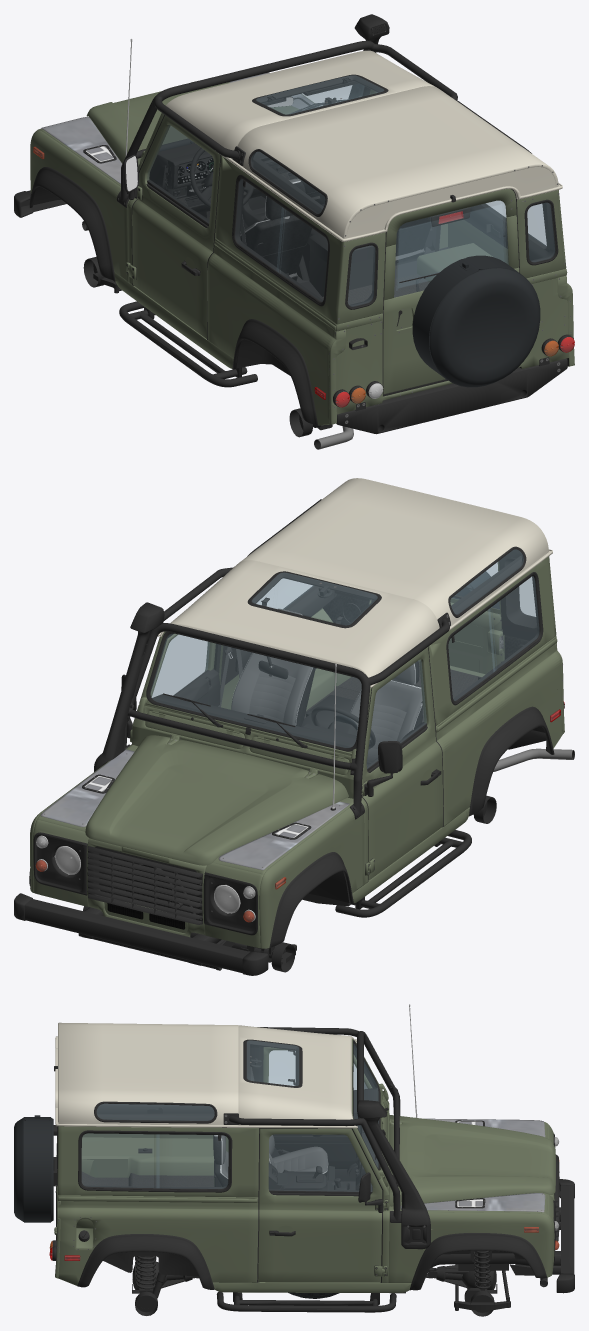
Rendered from defender-90.glb.
3 views of the same model, one above another, from view 1: azimuth 30°, elevation 25°; view 2: azimuth 150°, elevation 25°; view 3: azimuth 270°, elevation 25° (orthographic). The views are drawn at different scales.
Parts seen in each view (by area): view 1: Body, Steering; view 2: Body, Steering; view 3: Body.
Part boxes in pixels (x1,y1,x2,y2): Body: (14,14,574,449); Steering: (190,148,253,207); Body: (14,478,574,975); Steering: (311,705,375,749); Body: (14,1004,574,1316).
Bounding box in the file's own units: 1.92 × 1.93 × 3.99.
Materials: 35 (14 with a texture image).
